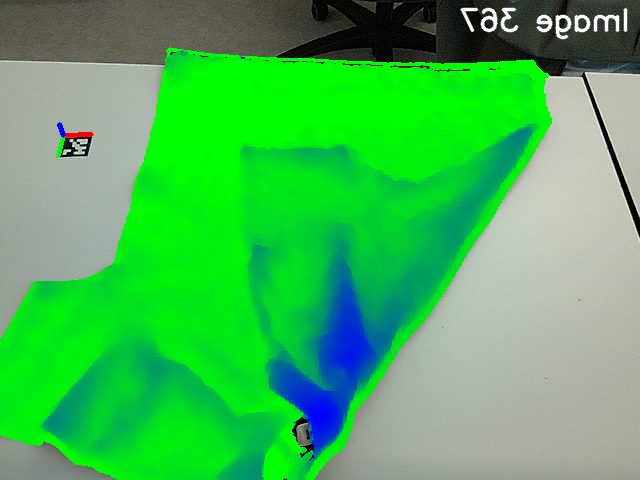V: (232, 134, 304, 203)
